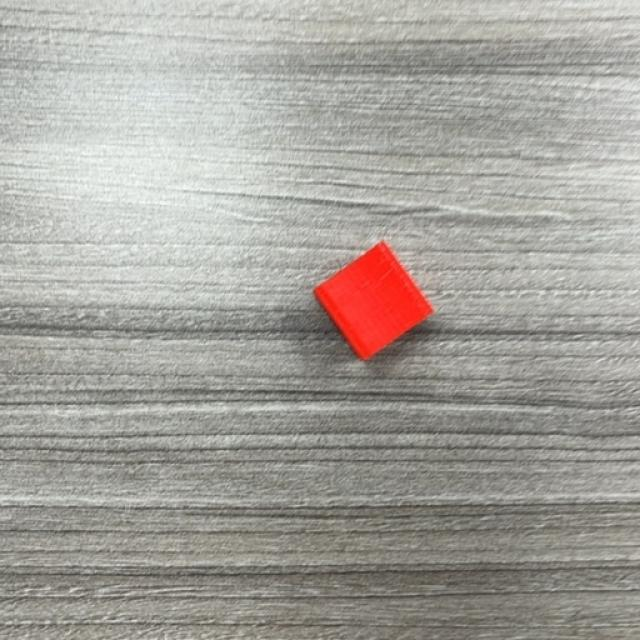Rojo: (312, 242, 435, 362)
